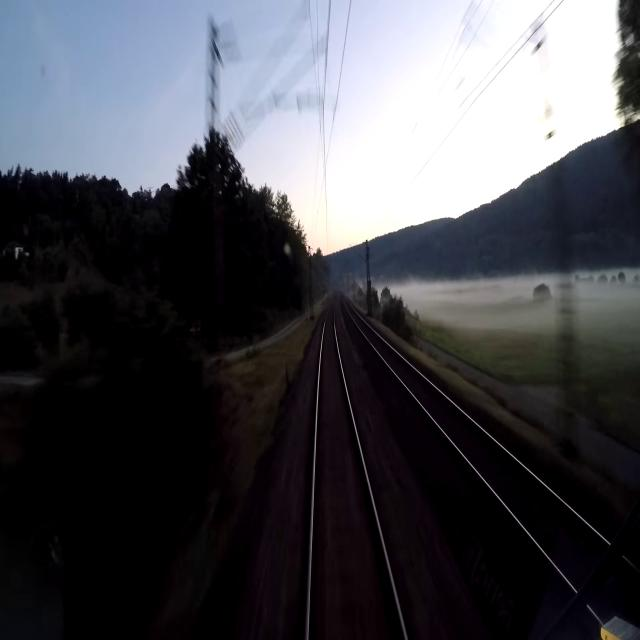rail-track: (343, 297, 602, 582), (310, 302, 404, 639)
